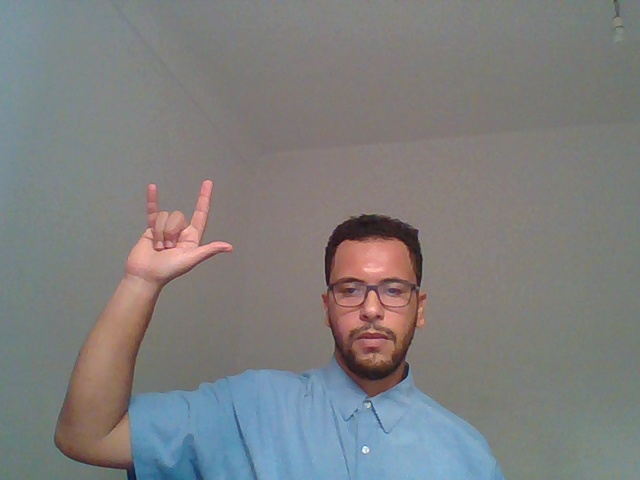iloveyou: (46, 130, 245, 421)
